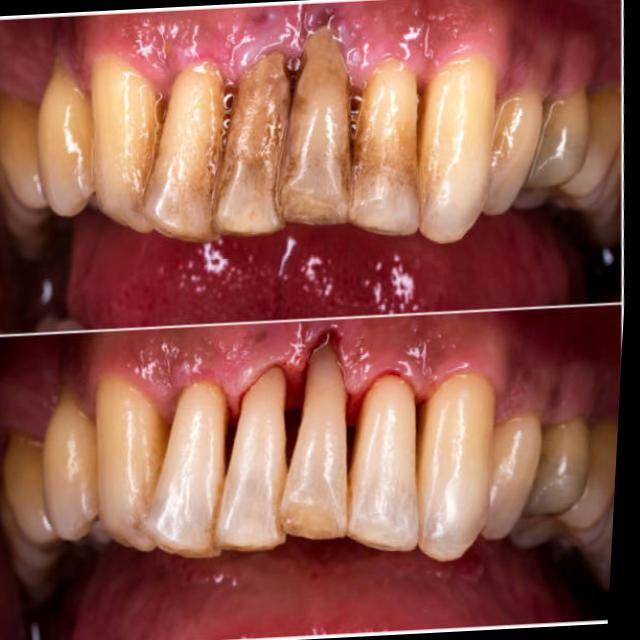calculus: (222, 89, 278, 233), (281, 124, 349, 222), (353, 141, 417, 235)
